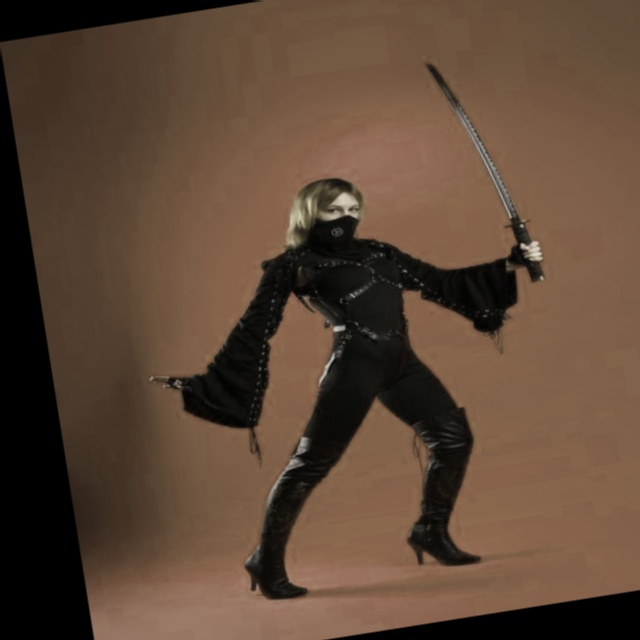Sharp-Object: (419, 46, 547, 287)
